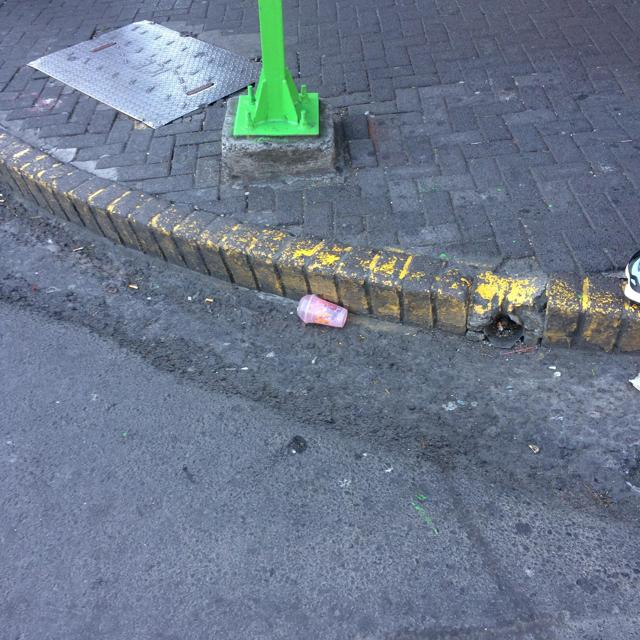litter: (297, 294, 348, 328), (297, 294, 314, 323), (129, 284, 138, 289), (73, 247, 84, 251), (498, 322, 503, 330), (205, 298, 214, 302)
